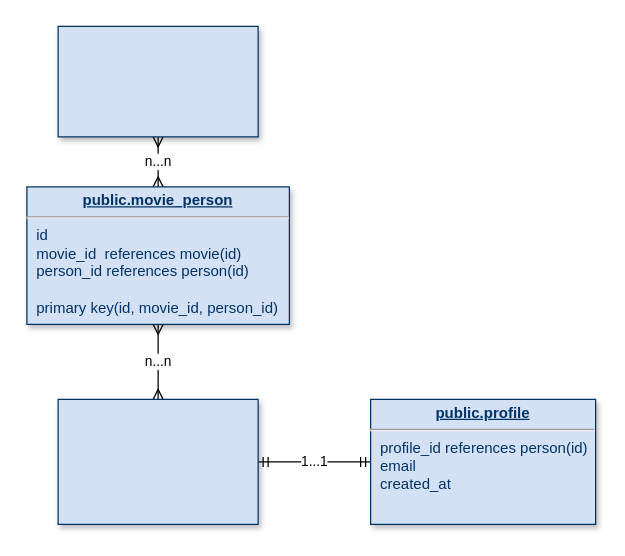
This 625x556 diagram has some shape labels left out. The shapes that lost their labels are listed below. From the top down, each one's centre as x and y in pixels, then its label:
At (159,83): "public.movie id name created_at".
At (159,463): "public.person id first_name last_name created_at".
